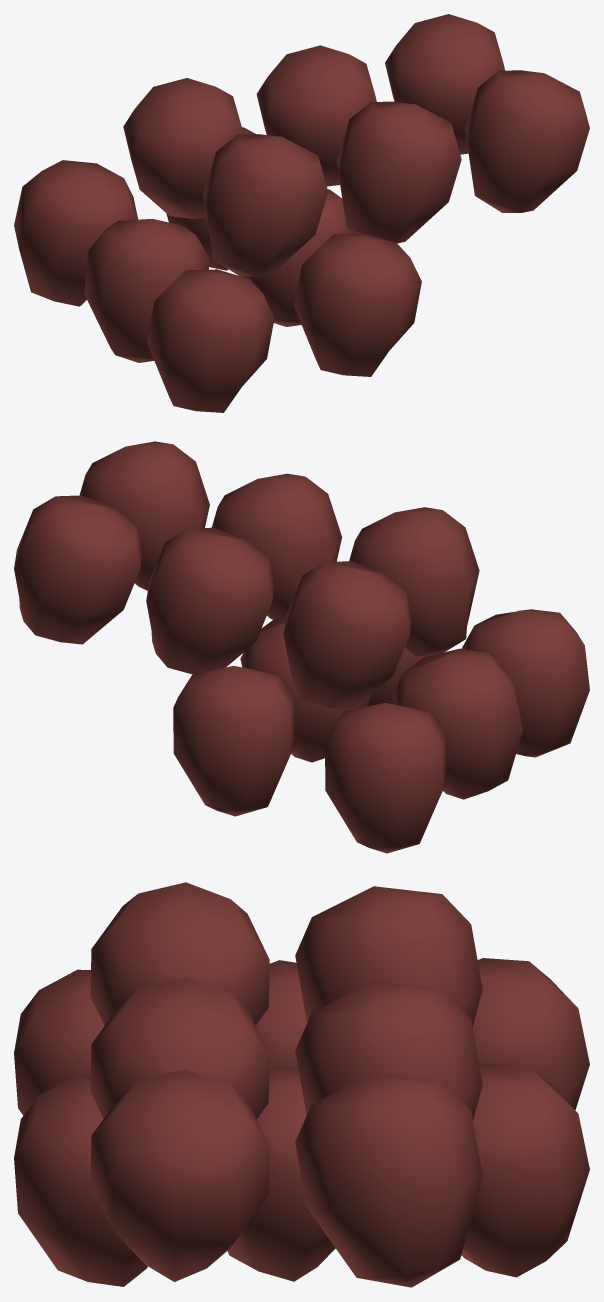
File: Muat Sawit_5_Low Mesh.gltf
3 renders of one model, top to bottom at view 1: azimuth 30°, elevation 25°; view 2: azimuth 150°, elevation 25°; view 3: azimuth 270°, elevation 25°, orthographic. The views are drawn at different scales.
Visible parts, largest first — view 1: Muat Sawit_5_Low Mesh; view 2: Muat Sawit_5_Low Mesh; view 3: Muat Sawit_5_Low Mesh.
Part boxes in pixels (x1=…): Muat Sawit_5_Low Mesh: x1=14, y1=14, x2=589, y2=412; Muat Sawit_5_Low Mesh: x1=14, y1=441, x2=589, y2=853; Muat Sawit_5_Low Mesh: x1=14, y1=882, x2=589, y2=1287.
Bounding box in the file's own units: 1.75 × 0.8487 × 1.31.
